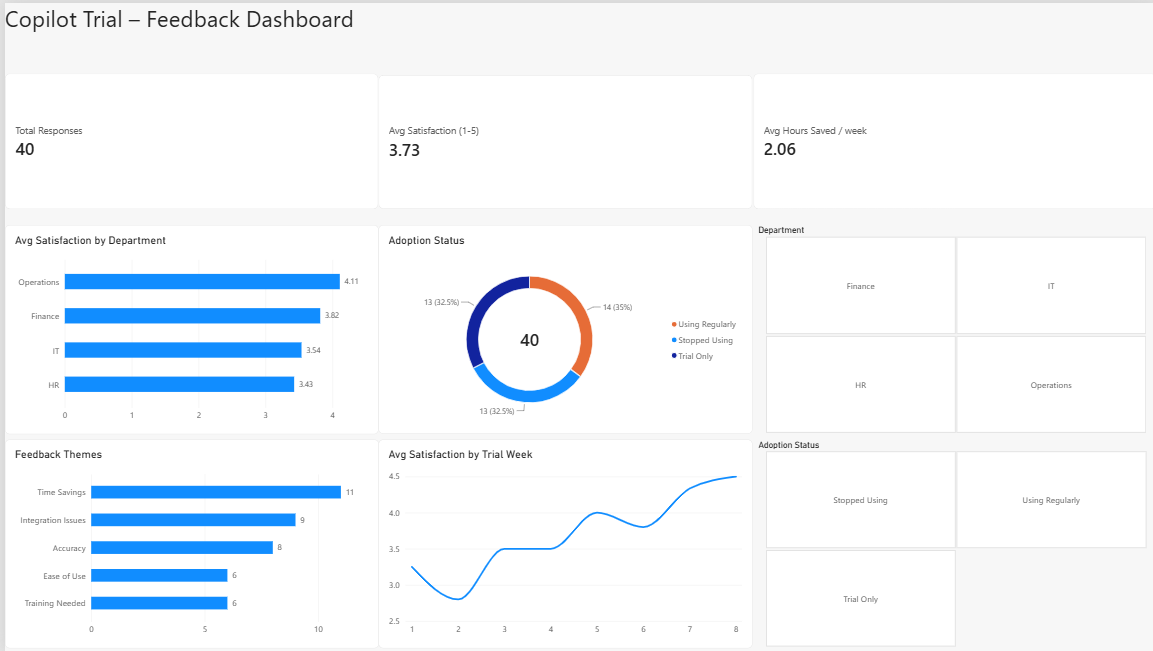

The dashboard page shown, as its layout file describes it:
{"tool":"powerbi","page":{"name":"Page 1","canvas":[1920,1080],"ordinal":0},"visuals":[{"type":"cardVisual","fields":{"Data":["CountNonNull(Responses.ResponseID)"]},"box":[0,117,622.7,226.7],"z":0},{"type":"cardVisual","fields":{"Data":["Avg(Responses.SatisfactionScore (1-5))"]},"box":[623.3,120.3,623.3,223.3],"z":1},{"type":"cardVisual","fields":{"Data":["Avg(Responses.TimeSavedHrsPerWeek)"]},"box":[1246.7,117,673.3,226.7],"z":2},{"type":"clusteredBarChart","title":"Avg Satisfaction by Department","fields":{"Category":["Responses.Department"],"Y":["Avg(Responses.SatisfactionScore (1-5))"]},"box":[0,369.9,622.7,348.3],"z":3},{"type":"donutChart","title":"Adoption Status","fields":{"Category":["Responses.AdoptionStatus"],"Y":["CountNonNull(Responses.ResponseID)"]},"box":[623.3,370.3,623,348],"z":4},{"type":"clusteredBarChart","title":"Feedback Themes","fields":{"Category":["Responses.FeedbackTheme"],"Y":["CountNonNull(Responses.ResponseID)"]},"box":[0,728,623,348],"z":5},{"type":"lineChart","title":"Avg Satisfaction by Trial Week","fields":{"Category":["Responses.TrialWeek"],"Y":["Avg(Responses.SatisfactionScore (1-5))"]},"box":[623,728,623,348],"z":6},{"type":"slicer","fields":{"Values":["Responses.Department"]},"box":[1247,370,673,348],"z":7},{"type":"slicer","fields":{"Values":["Responses.AdoptionStatus"]},"box":[1246.7,727,673.3,346.7],"z":8},{"type":"textbox","box":[100,100,300,300],"z":9},{"type":"textbox","box":[0,0,623.3,73.3],"z":10}]}

Visuals, with their boxes in screenshot pixels (x1, y1, x2, y2), scaled from the page's 1920x1080 canvas onto the 1153x651 screenshot:
cardVisual - CountNonNull(Responses.ResponseID): pyautogui.locateOnScreen(0, 71, 374, 207)
cardVisual - Avg(Responses.SatisfactionScore (1-5)): pyautogui.locateOnScreen(374, 73, 749, 207)
cardVisual - Avg(Responses.TimeSavedHrsPerWeek): pyautogui.locateOnScreen(749, 71, 1152, 207)
"Avg Satisfaction by Department" clusteredBarChart: pyautogui.locateOnScreen(0, 223, 374, 433)
"Adoption Status" donutChart: pyautogui.locateOnScreen(374, 223, 748, 433)
"Feedback Themes" clusteredBarChart: pyautogui.locateOnScreen(0, 439, 374, 649)
"Avg Satisfaction by Trial Week" lineChart: pyautogui.locateOnScreen(374, 439, 748, 649)
slicer - Responses.Department: pyautogui.locateOnScreen(749, 223, 1152, 433)
slicer - Responses.AdoptionStatus: pyautogui.locateOnScreen(749, 438, 1152, 647)
textbox: pyautogui.locateOnScreen(60, 60, 240, 241)
textbox: pyautogui.locateOnScreen(0, 0, 374, 44)
